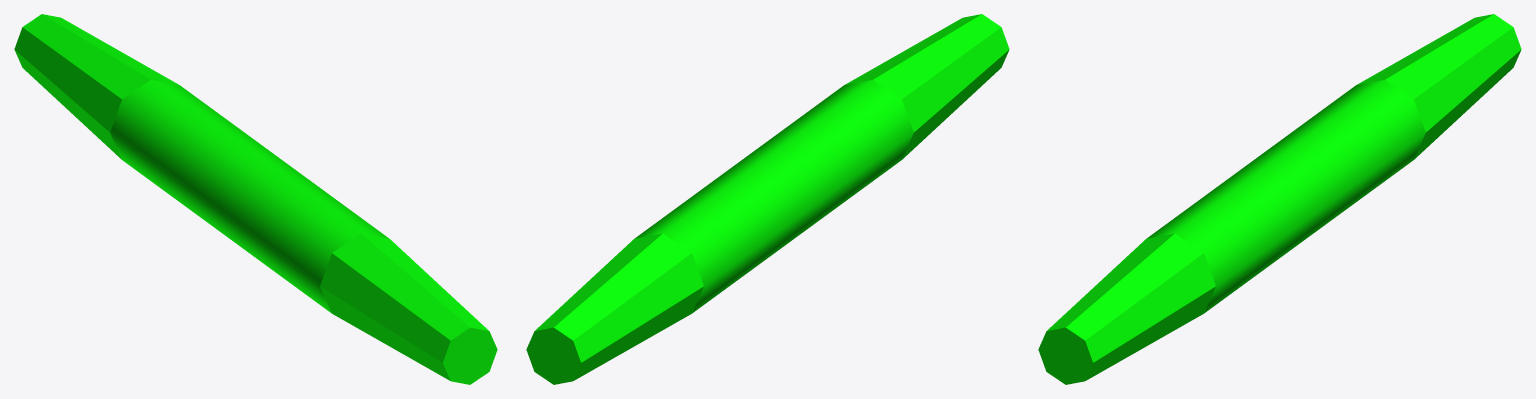
The model's file is SM_KitchenTool_13_Collider.fbx.
3 views of the same model, side by side, from view 1: azimuth 30°, elevation 25°; view 2: azimuth 150°, elevation 25°; view 3: azimuth 330°, elevation 25° (orthographic).
Parts seen in each view (by area): view 1: SM_KitchenTool_13_Collider; view 2: SM_KitchenTool_13_Collider; view 3: SM_KitchenTool_13_Collider.
Boxes of the visible parts, x1,y1,x2,y2 form: SM_KitchenTool_13_Collider: (14, 14, 497, 384); SM_KitchenTool_13_Collider: (526, 14, 1009, 384); SM_KitchenTool_13_Collider: (1038, 14, 1521, 384).
Size of the model in its own units: 11.29 by 11.29 by 102.
